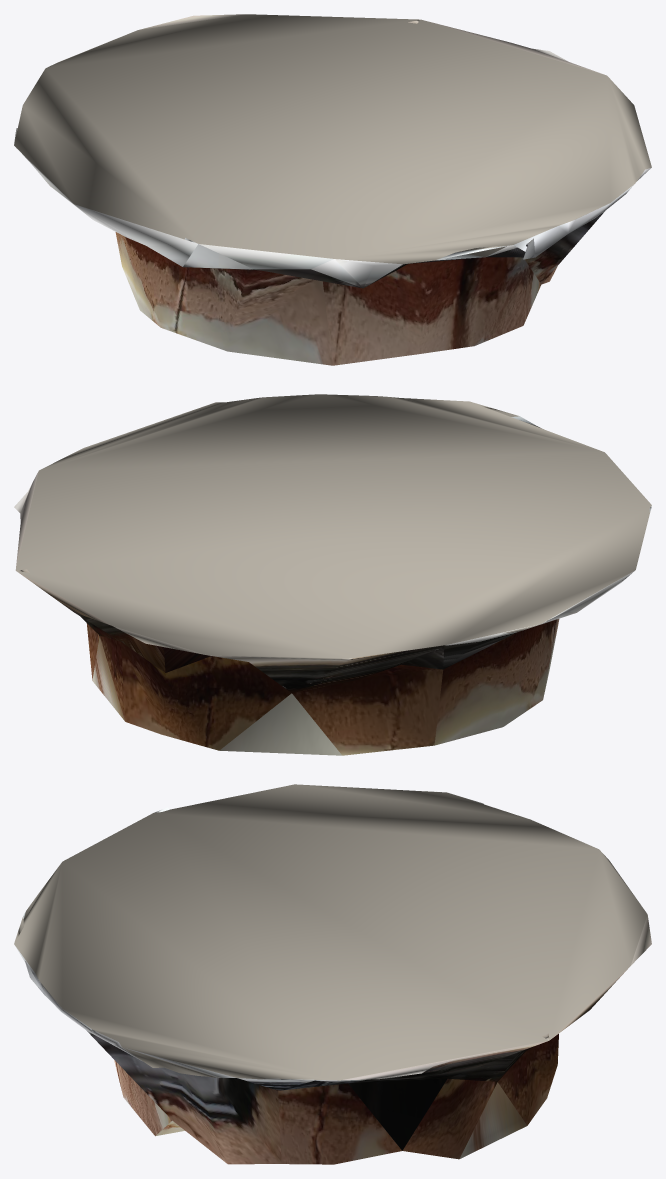
The model's file is cake_248.obj.
The picture shows the model from 3 angles, top to bottom: view 1: azimuth 30°, elevation 25°; view 2: azimuth 150°, elevation 25°; view 3: azimuth 270°, elevation 25°; orthographic projection. The views are drawn at different scales.
Size of the model in its own units: 0.1787 by 0.0506 by 0.1765.
Materials: 1 (1 with a texture image).
